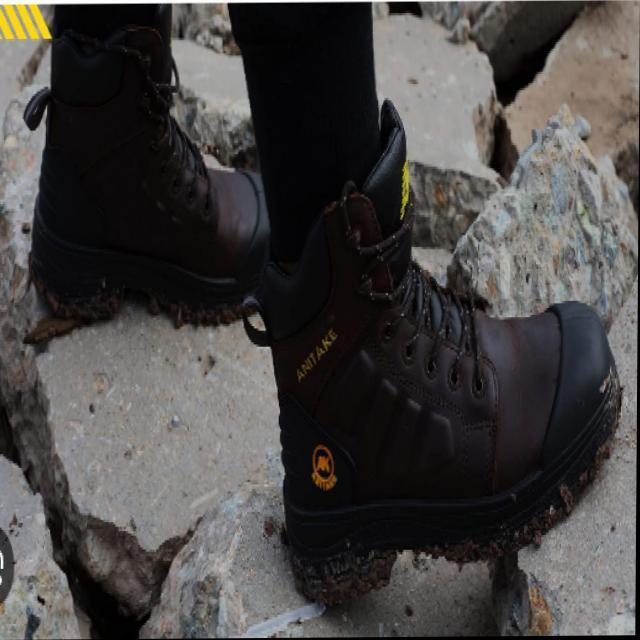shoes: (17, 4, 628, 615)
